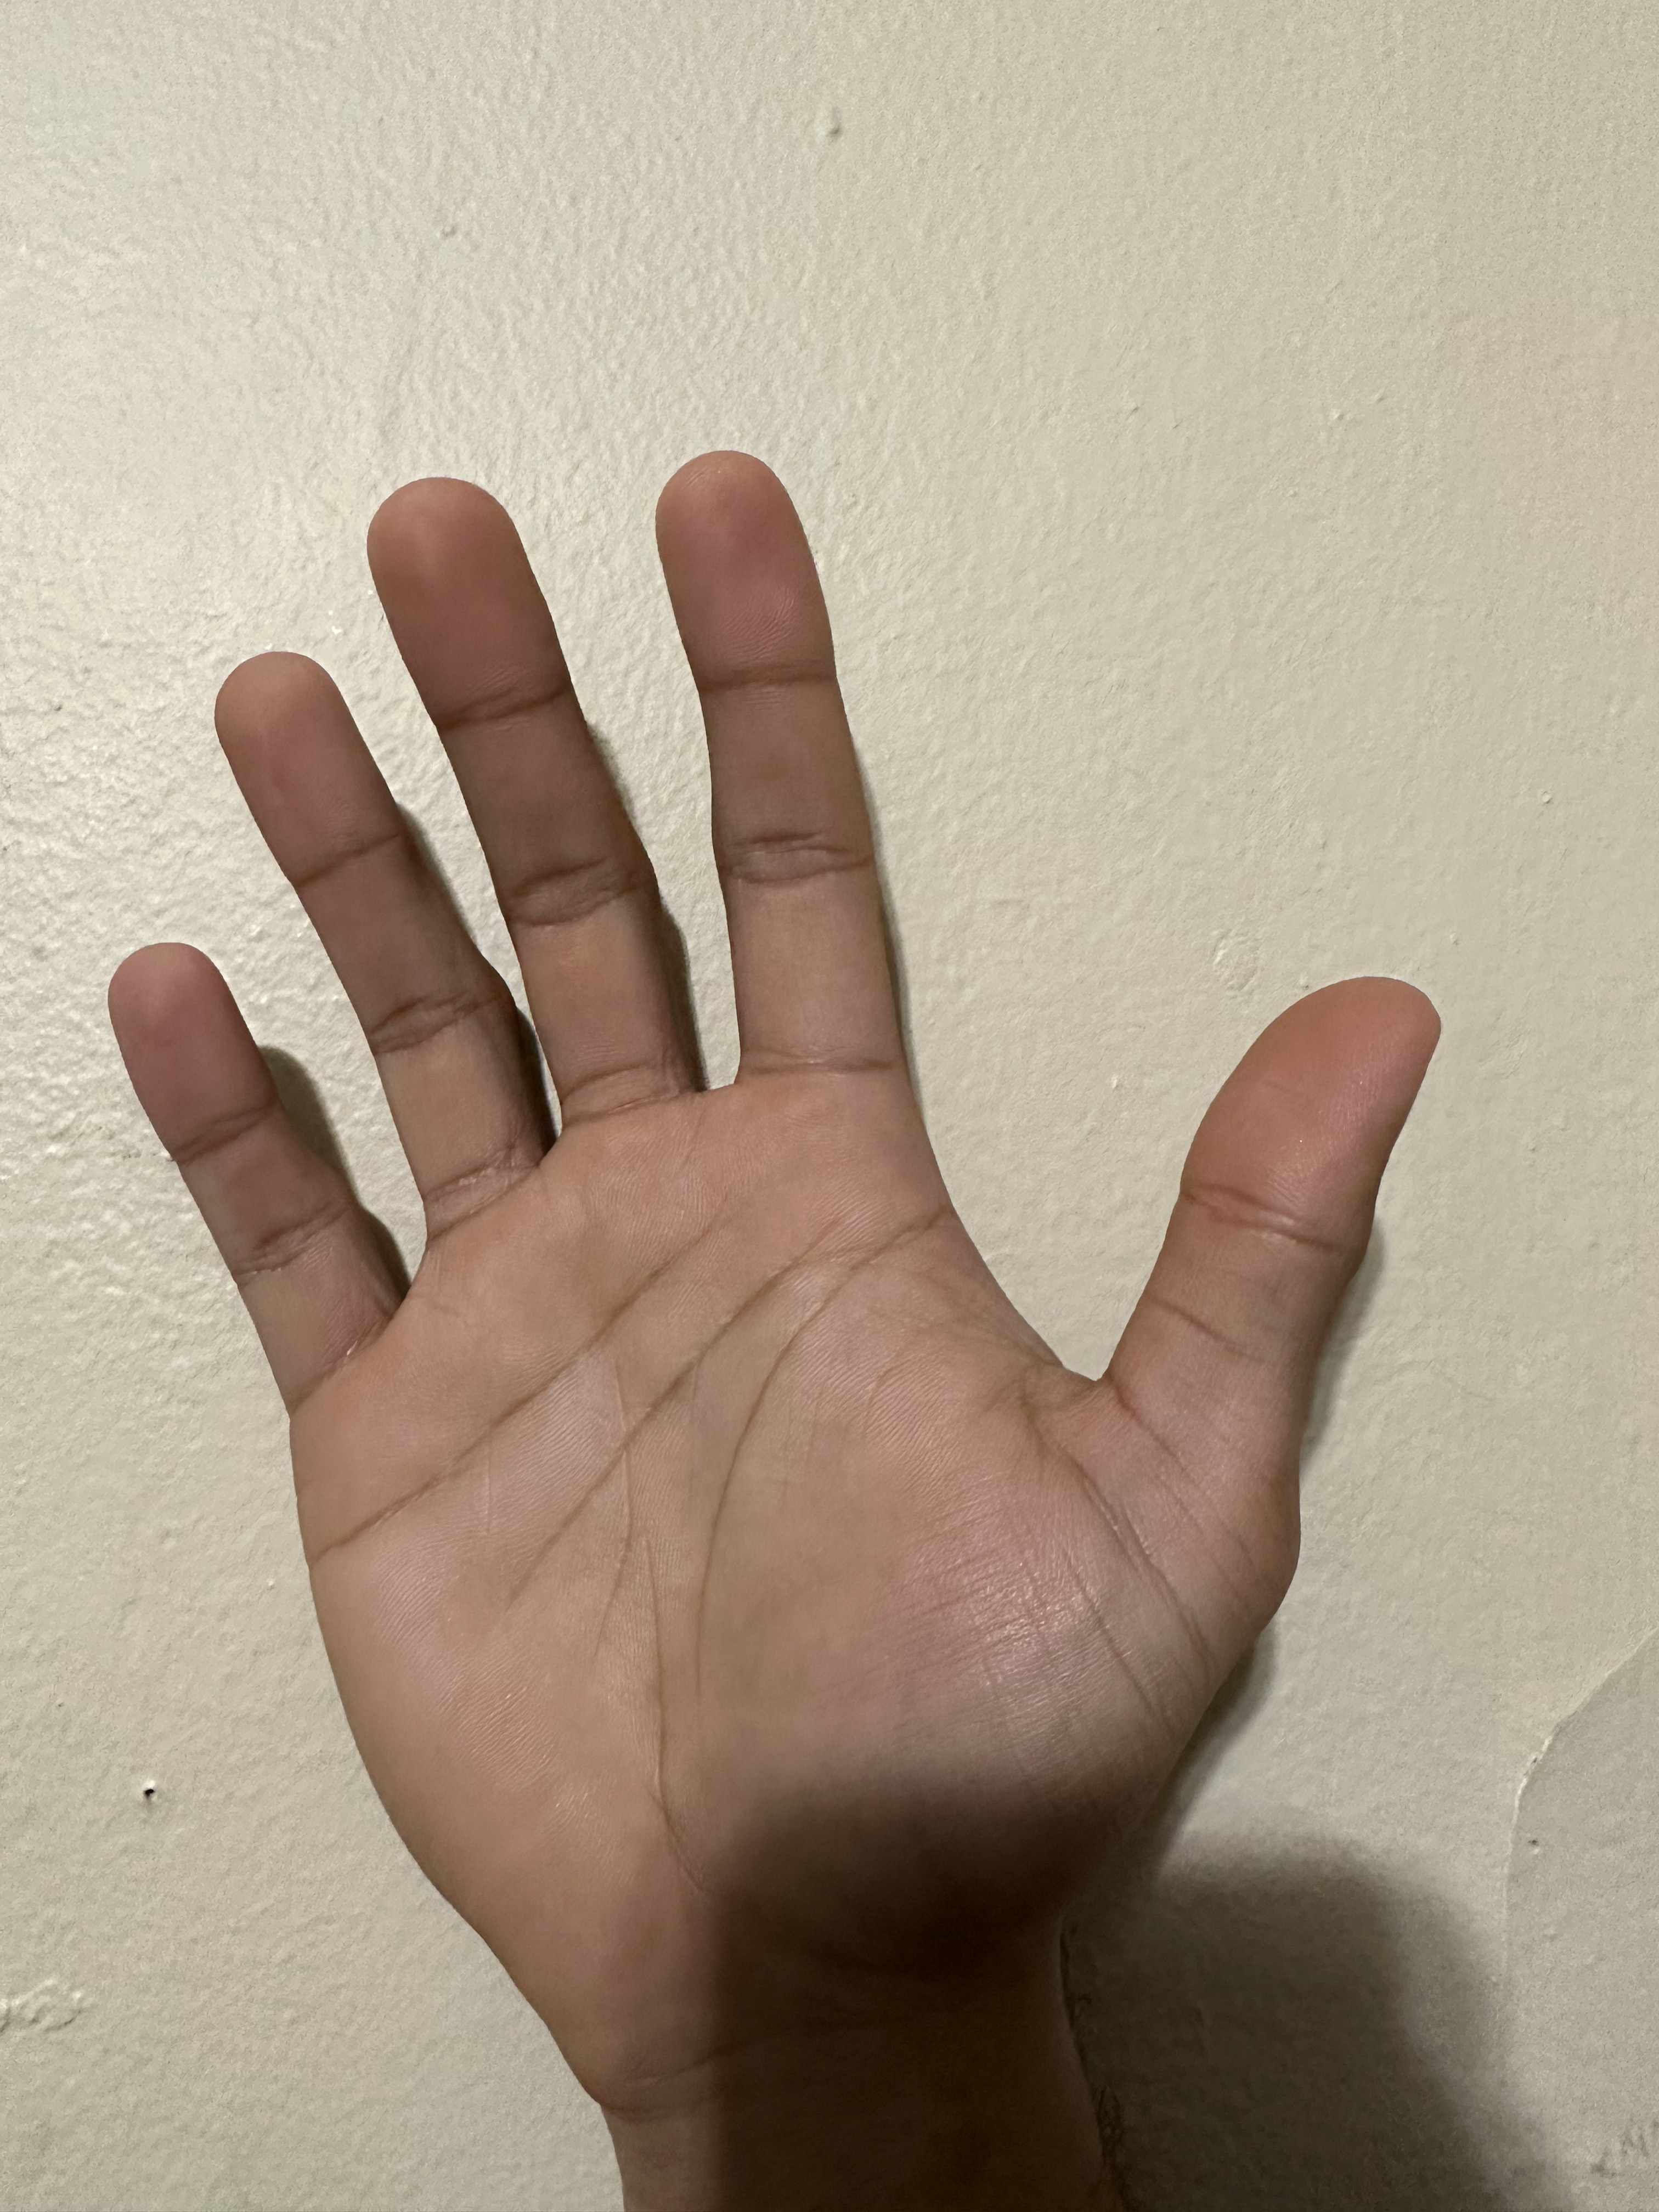finger: (1194, 939, 1469, 1226), (629, 418, 857, 678), (357, 437, 580, 695), (193, 624, 399, 864), (85, 906, 272, 1136)
